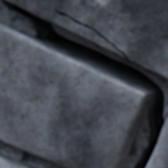brick: (0, 23, 151, 167), (5, 0, 167, 79), (147, 118, 167, 167)
broken_brick: (0, 153, 30, 167)
crack: (1, 0, 166, 167), (55, 10, 129, 61)
